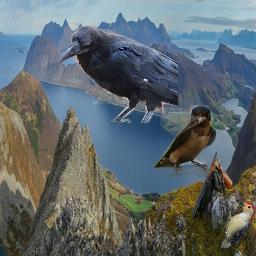Crow: (58, 23, 178, 123)
Swallow: (153, 105, 216, 177)
Woodpecker: (221, 199, 255, 248)
